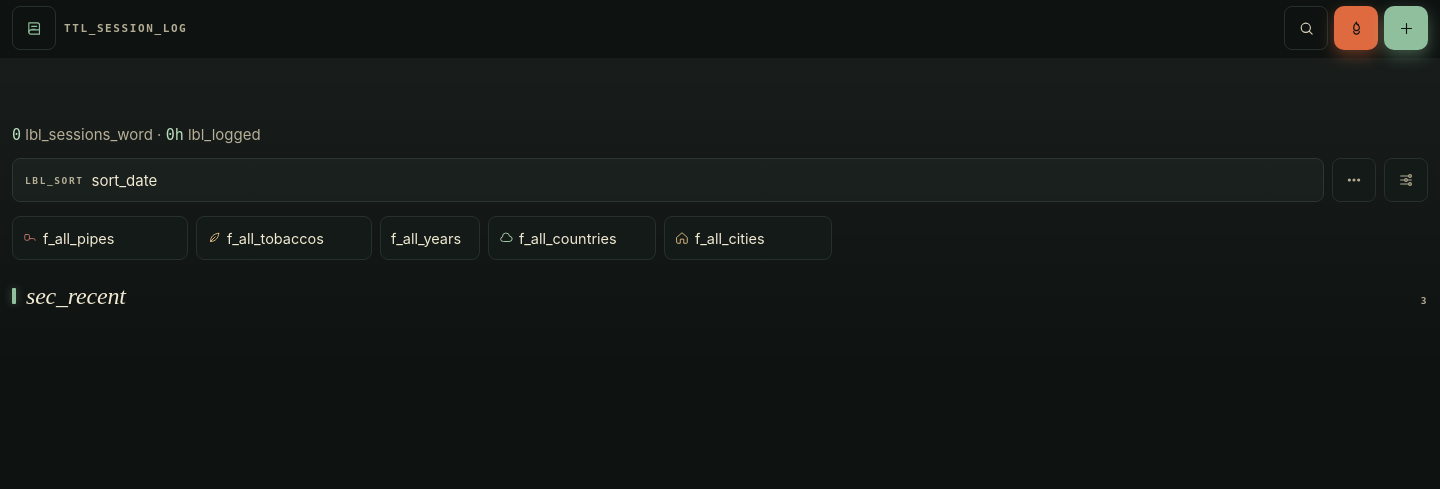
JournalView — country / locality filters › selecting a locality narrows to that city
Select "Berlin" in the dropdown named "aria_filter_by_city" at (758, 238), box [695,217,821,259]
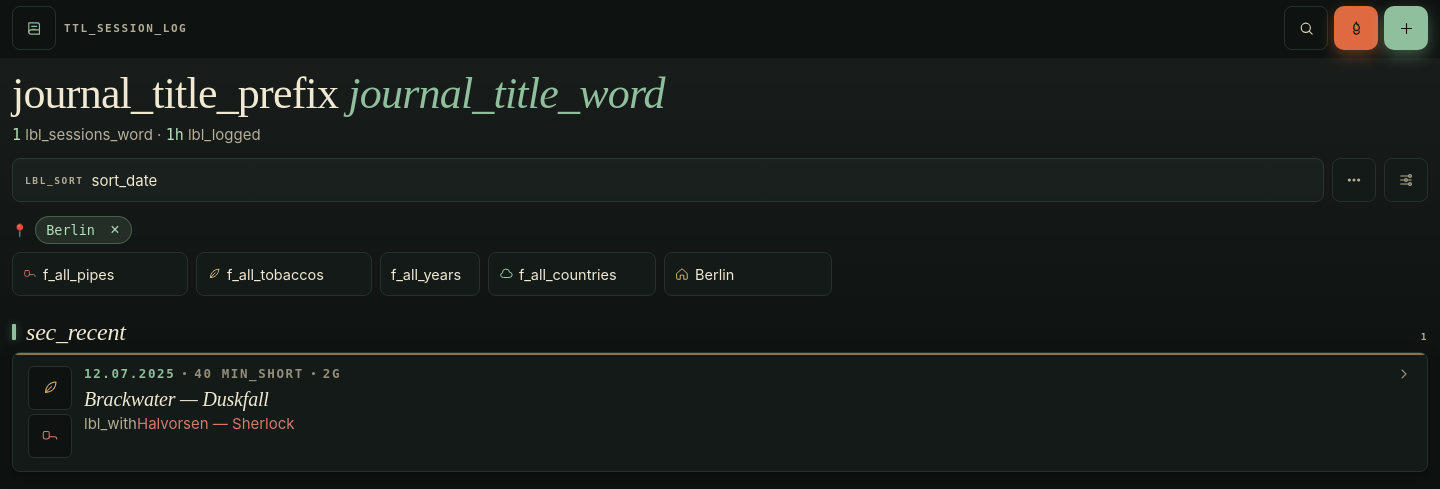
Result: the text "12.07.2025" is shown at [84,366,175,381]
